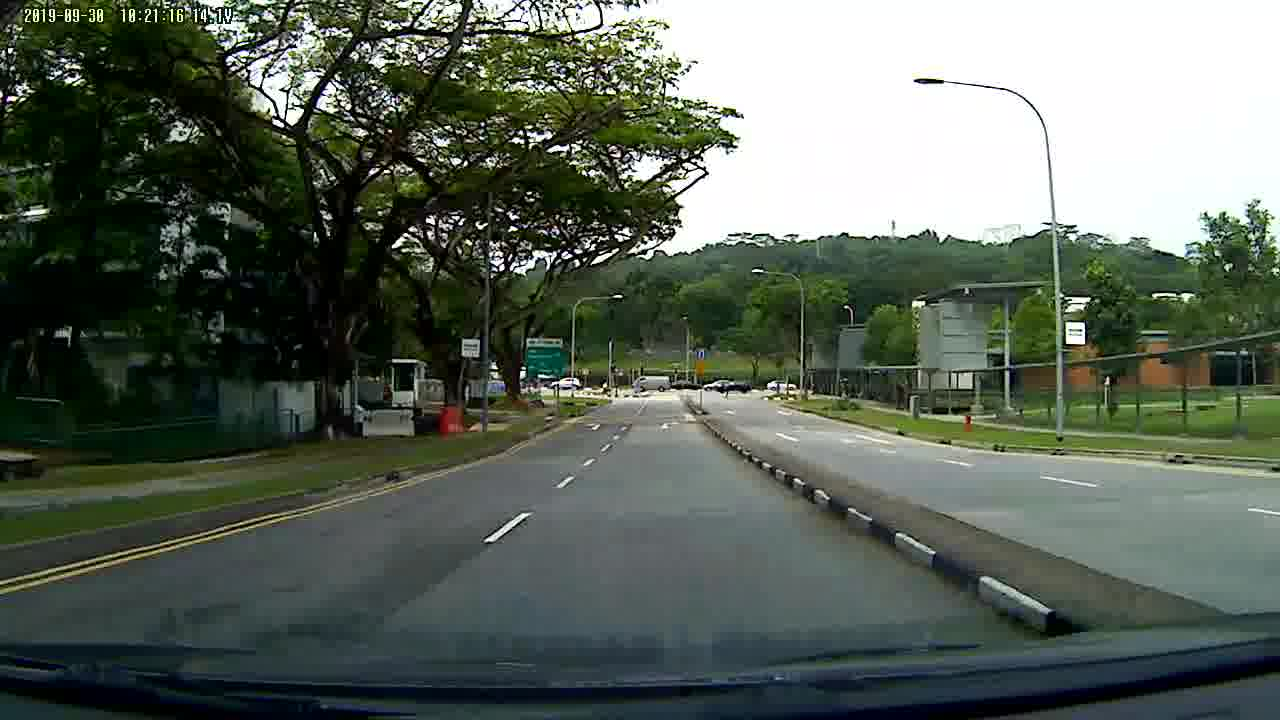car: (548, 377, 583, 390), (766, 379, 798, 391)
